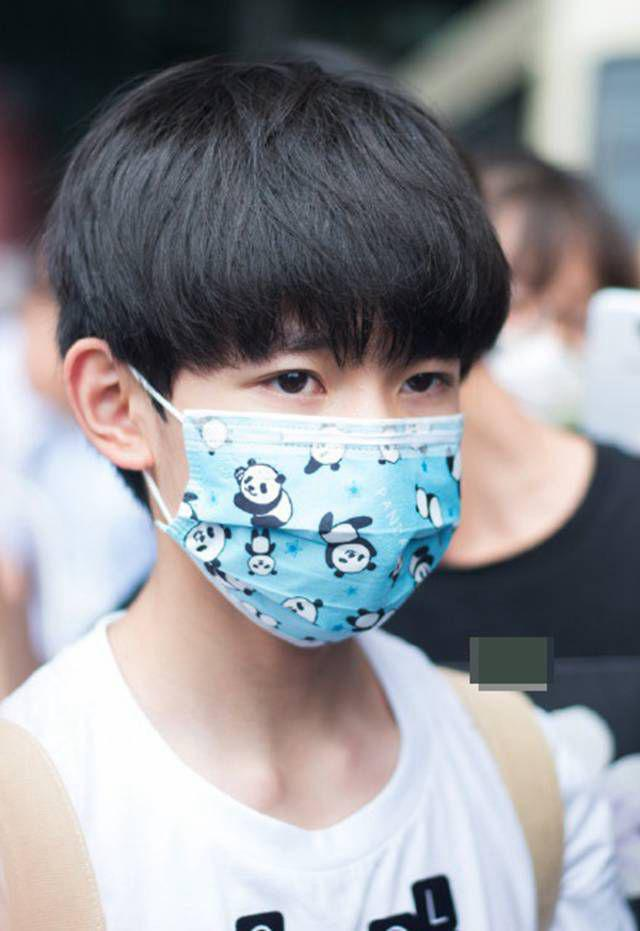OK: (138, 315, 464, 641)
